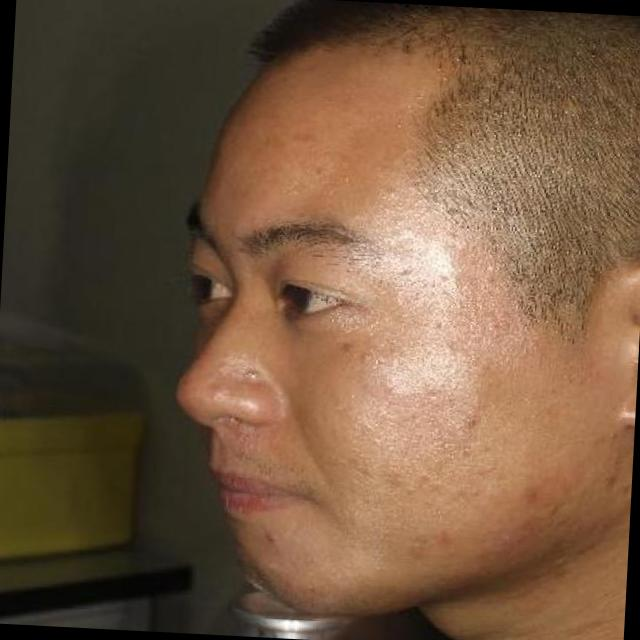darkspot: (282, 115, 330, 157), (514, 481, 552, 508), (385, 469, 411, 493), (418, 468, 434, 486)
nodules: (439, 338, 456, 364), (392, 262, 417, 279), (381, 188, 402, 203), (478, 276, 498, 291), (337, 341, 357, 356), (517, 344, 535, 360), (242, 367, 264, 380), (312, 166, 328, 180), (463, 414, 478, 428), (446, 206, 460, 220), (500, 315, 512, 329)
